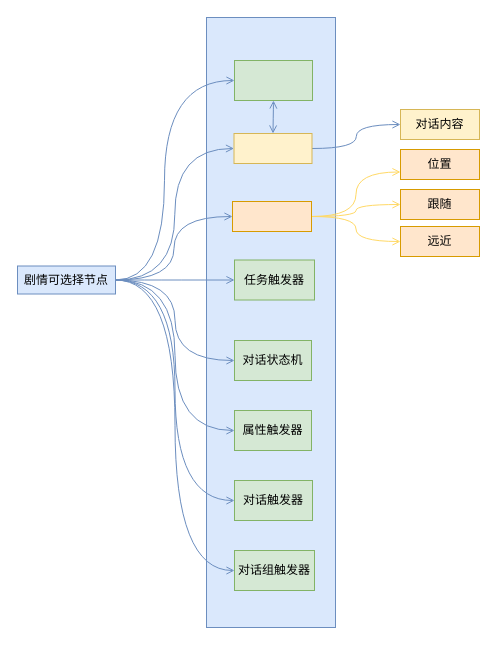
Some shapes in this 497 by 645 pixel diagram are drawn without their labels. Each missing label, with the centre of its shape:
对话: point (272, 148)
对话角色: point (273, 80)
相机: point (272, 216)
